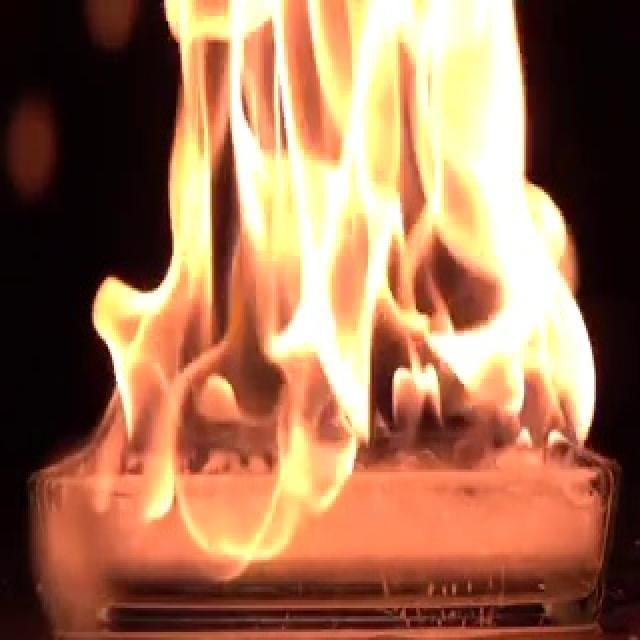smoke: (86, 0, 603, 580)
